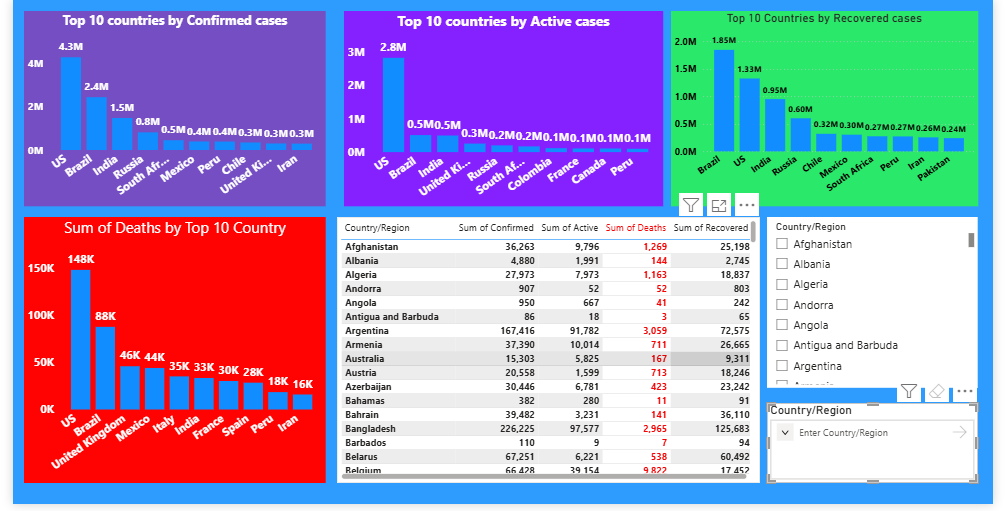

The page's visual inventory and layout, read from the dashboard file:
{"tool":"powerbi","page":{"name":"Page 3","canvas":[1400,720],"ordinal":2},"visuals":[{"type":"columnChart","title":"Top 10 countries by Confirmed cases","fields":{"Category":["country_wise_latest.Country/Region"],"Y":["Sum(country_wise_latest.Confirmed)"]},"box":[15.7,15.7,431.4,278.6],"z":0},{"type":"clusteredColumnChart","title":"Top 10 countries by Active cases","fields":{"Y":["Sum(country_wise_latest.Active)"],"Category":["country_wise_latest.Country/Region"]},"box":[472.9,15.7,455.7,278.6],"z":1000},{"type":"clusteredColumnChart","title":"Sum of Deaths by Top 10 Country","fields":{"Y":["Sum(country_wise_latest.Deaths)"],"Category":["country_wise_latest.Country/Region"]},"box":[15.7,310,431.4,380],"z":2000},{"type":"clusteredColumnChart","title":"Top 10 Countries by Recovered cases","fields":{"Category":["country_wise_latest.Country/Region"],"Y":["Sum(country_wise_latest.Recovered)"]},"box":[940,15.7,438.6,278.6],"z":3000},{"type":"tableEx","fields":{"Values":["country_wise_latest.Country/Region","Sum(country_wise_latest.Confirmed)","Sum(country_wise_latest.Active)","Sum(country_wise_latest.Deaths)","Sum(country_wise_latest.Recovered)"]},"box":[462.9,310,604.3,380],"z":4000},{"type":"slicer","fields":{"Values":["country_wise_latest.Country/Region"]},"box":[1077.1,310,301.4,244.3],"z":5000},{"type":"textSlicer","fields":{"Values":["country_wise_latest.Country/Region"]},"box":[1077.1,575.7,301.4,114.3],"z":6000}]}

Visuals, with their boxes in screenshot pixels (x1, y1, x2, y2), scaled from the page's 1400x720 canvas onto the 1007x511 screenshot:
"Top 10 countries by Confirmed cases" columnChart: box=[11, 11, 322, 209]
"Top 10 countries by Active cases" clusteredColumnChart: box=[340, 11, 668, 209]
"Sum of Deaths by Top 10 Country" clusteredColumnChart: box=[11, 220, 322, 490]
"Top 10 Countries by Recovered cases" clusteredColumnChart: box=[676, 11, 992, 209]
tableEx - country_wise_latest.Country/Region x Sum(country_wise_latest.Confirmed): box=[333, 220, 768, 490]
slicer - country_wise_latest.Country/Region: box=[775, 220, 992, 393]
textSlicer - country_wise_latest.Country/Region: box=[775, 409, 992, 490]
